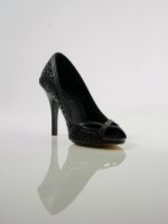shoes: (34, 46, 130, 155)
